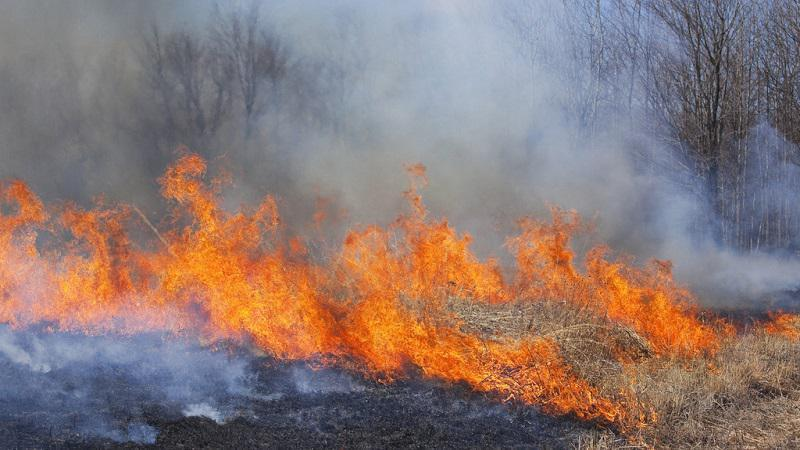fire: (0, 152, 745, 412), (764, 297, 795, 343)
